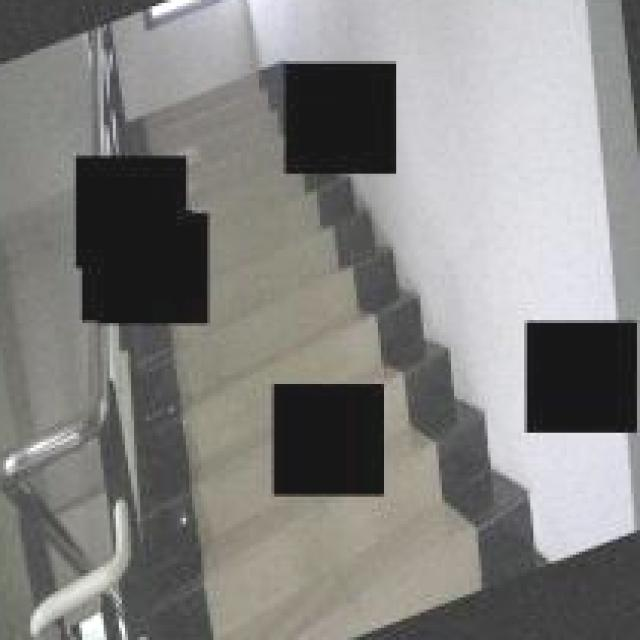upstair: (239, 209, 379, 346)
